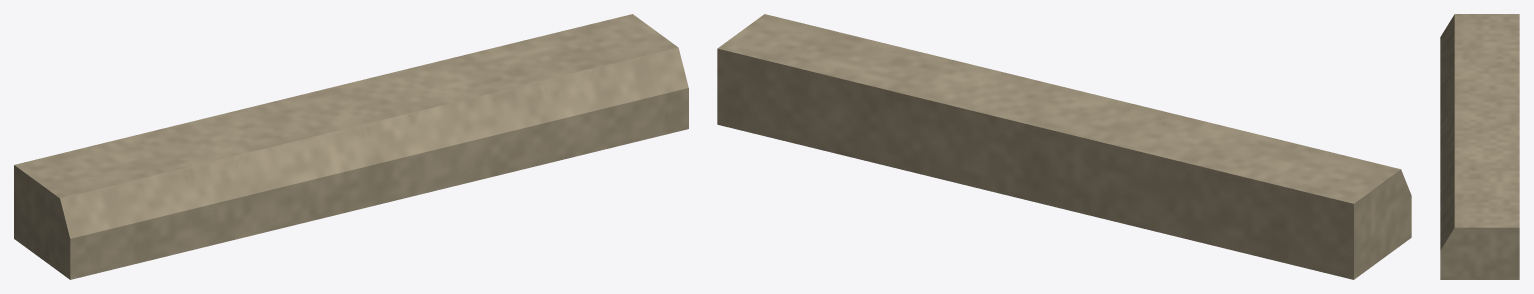
File: sandstone-sill.lod1.glb
3 renders of one model, left to right at view 1: azimuth 30°, elevation 25°; view 2: azimuth 150°, elevation 25°; view 3: azimuth 270°, elevation 25°, orthographic. The views are drawn at different scales.
Parts seen in each view (by area): view 1: sandstone-sill; view 2: sandstone-sill; view 3: sandstone-sill.
Part boxes in pixels (x1=…): sandstone-sill: x1=14, y1=14, x2=688, y2=279; sandstone-sill: x1=717, y1=14, x2=1411, y2=279; sandstone-sill: x1=1440, y1=14, x2=1519, y2=279.
Bounding box in the file's own units: 1.4 × 0.16 × 0.22.
1 material, 1 textured.
